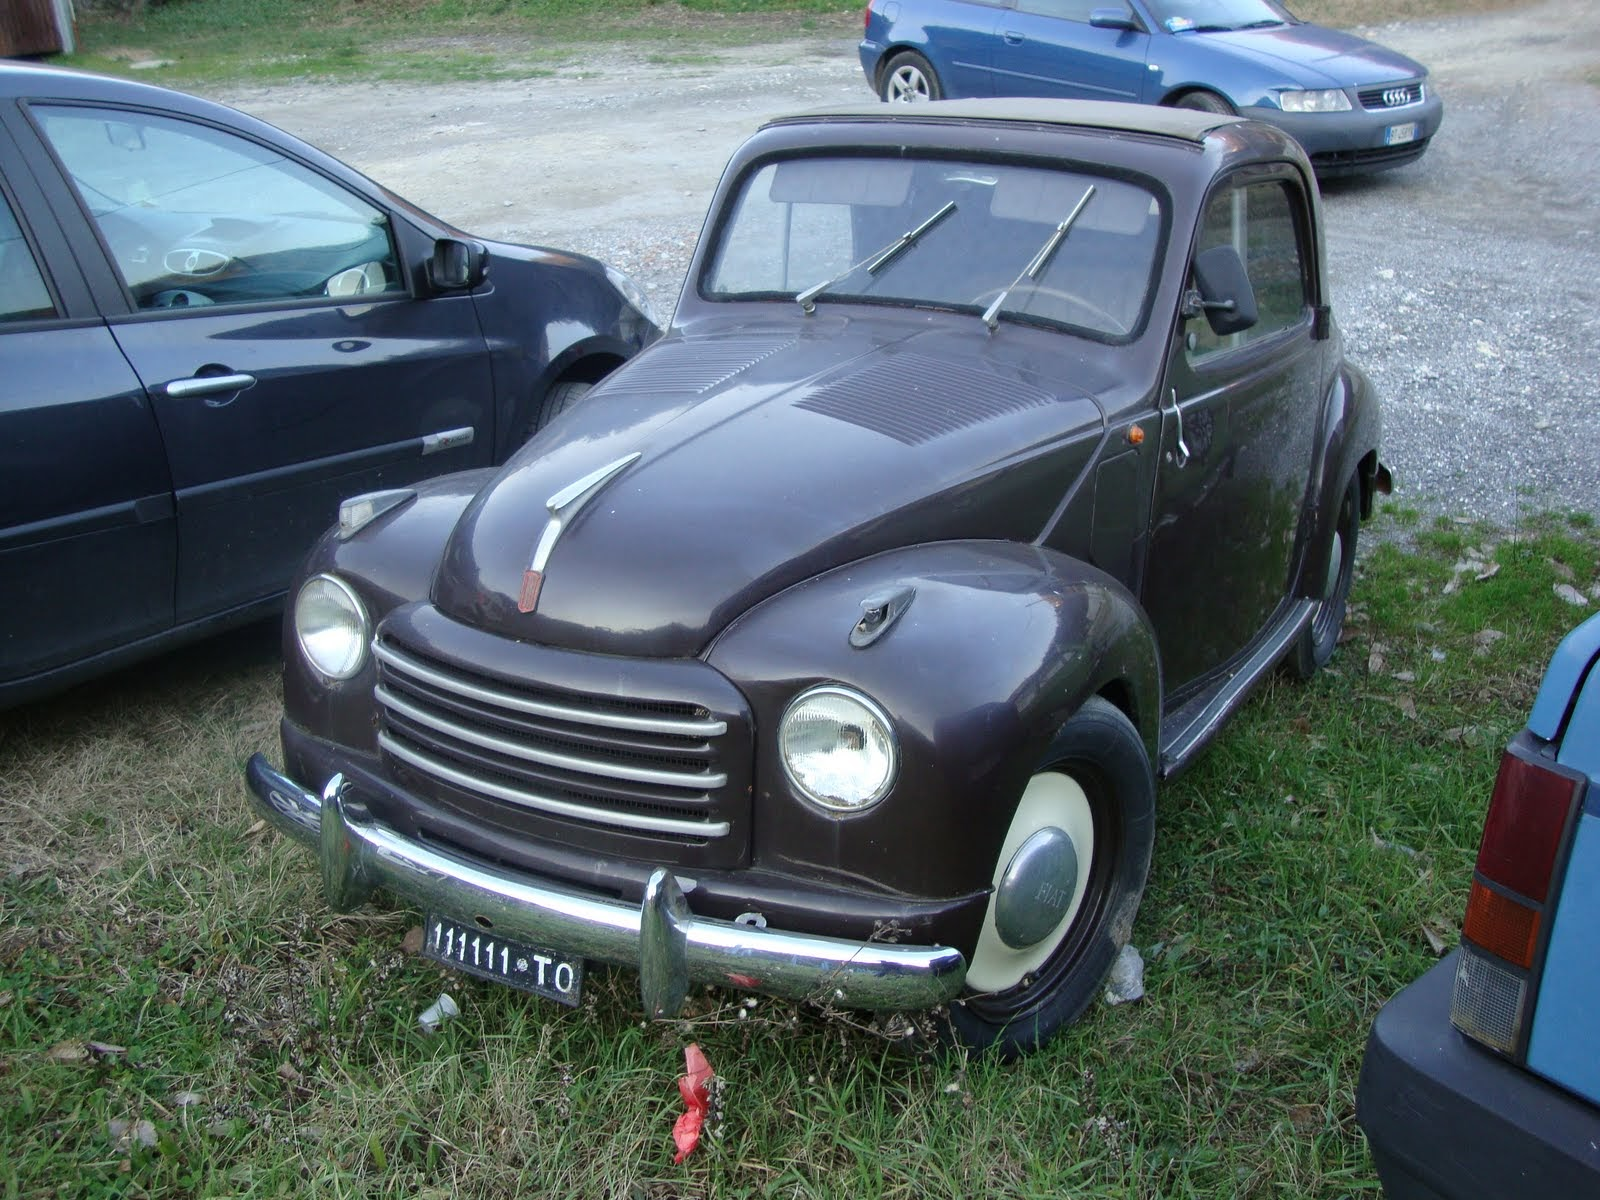car: (102, 9, 1546, 1129), (0, 120, 713, 779)
